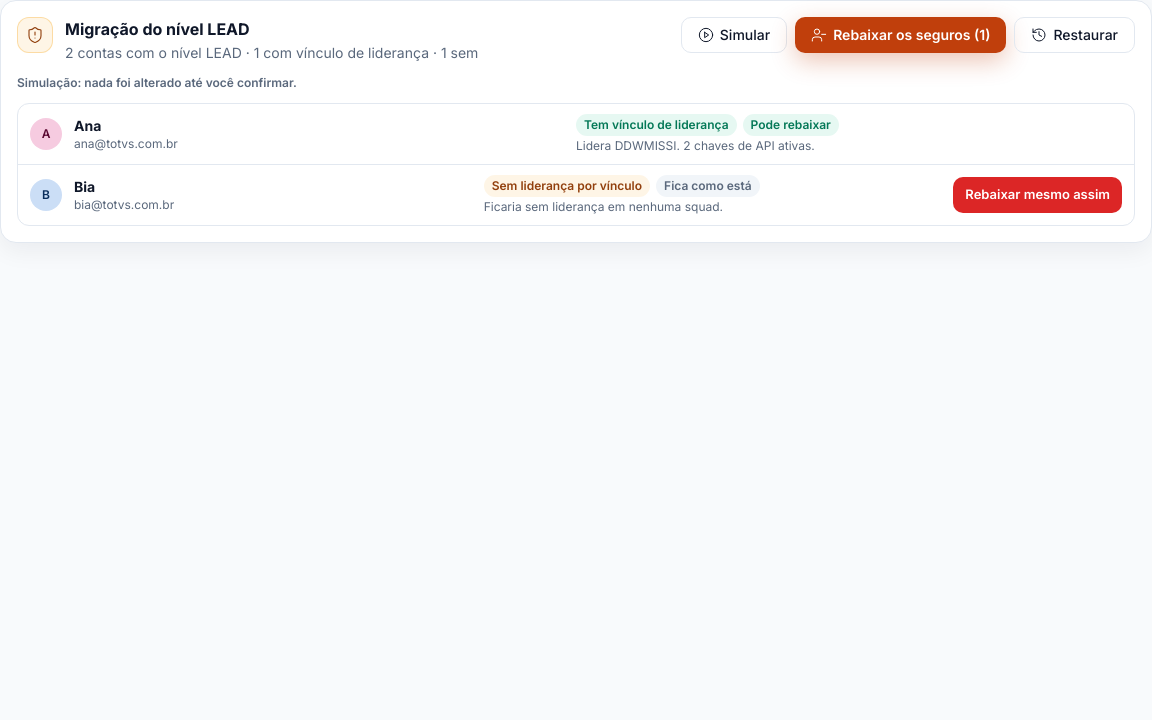
LeadMigrationPanel › Rebaixar os seguros pede confirmação, avisa das chaves de API e aplica o lote (apply=true)
The image size is (1152, 720).
Expected: the heading "Migração do nível LEAD" is shown, 65,19 -> 250,39
Click the button "Rebaixar os seguros (1)" at (901, 35), box 795,17 -> 1006,53
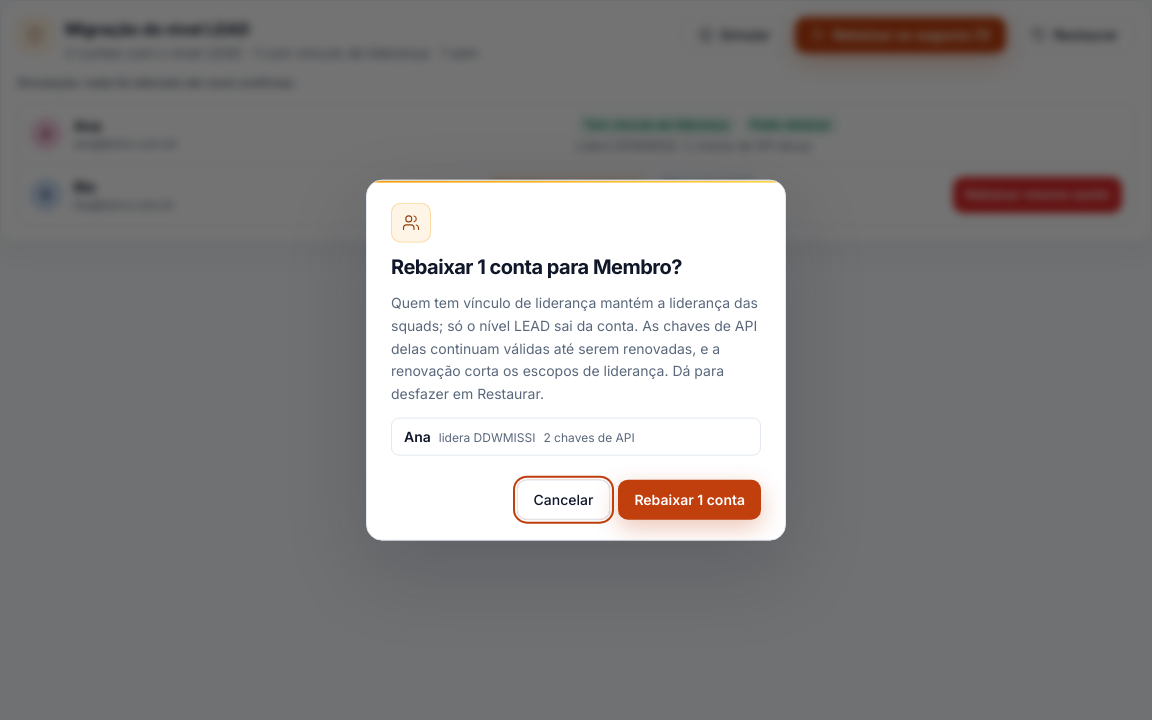
Now the heading "Rebaixar 1 conta para Membro?" is shown, box 391,255 -> 682,279
Now the text "continuam válidas até serem renovadas" is shown, box 391,294 -> 758,402
Now the text "Ana" is shown, box 404,426 -> 431,446
Click the button "Rebaixar 1 conta" at (690, 499), box 618,479 -> 761,519
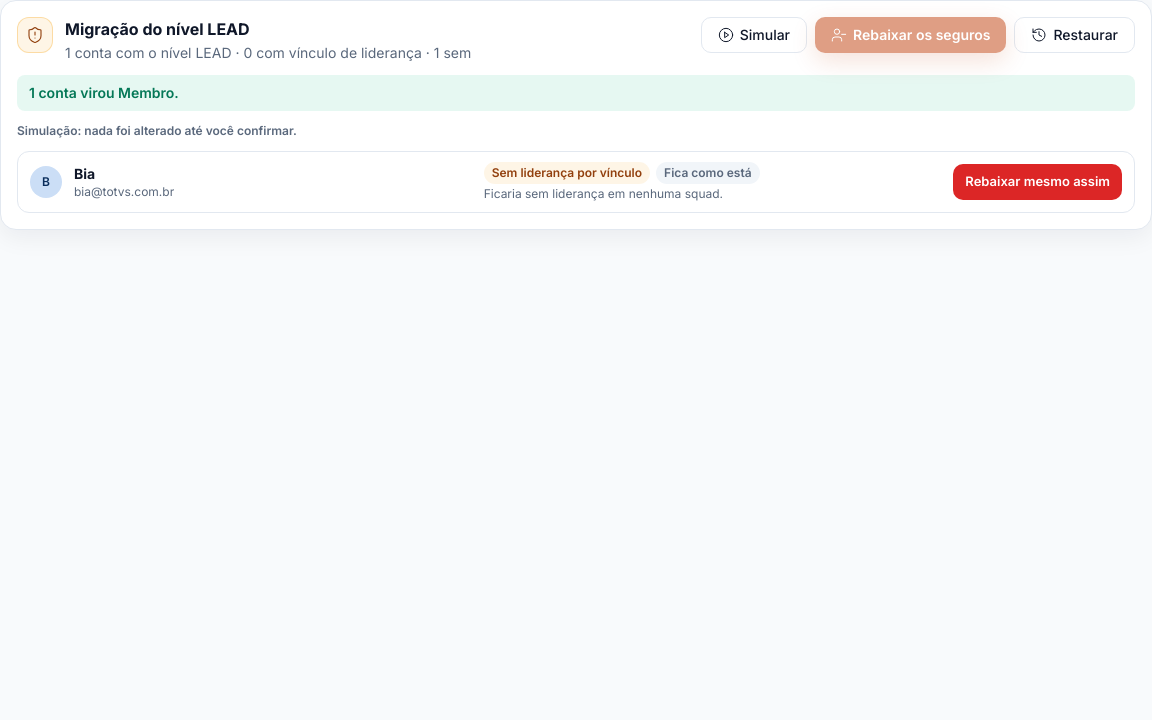
Now the text "1 conta virou Membro." is shown, box 17,75 -> 1135,111
